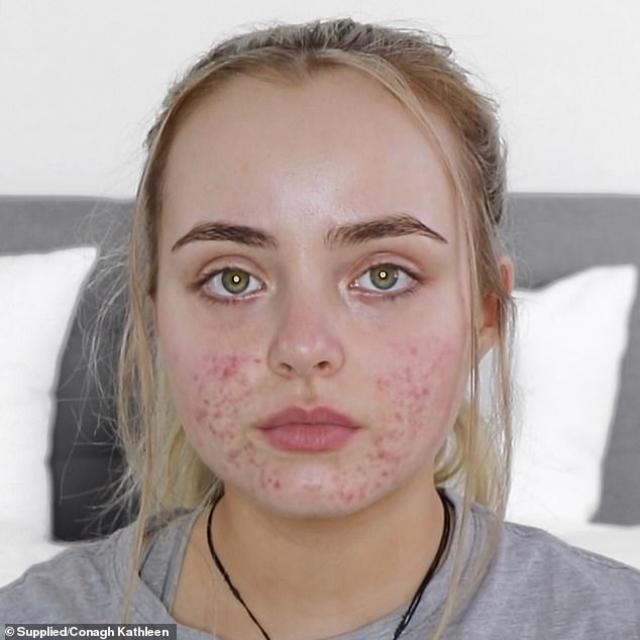Acne: (225, 434, 392, 506), (356, 346, 453, 467), (188, 314, 260, 447)
